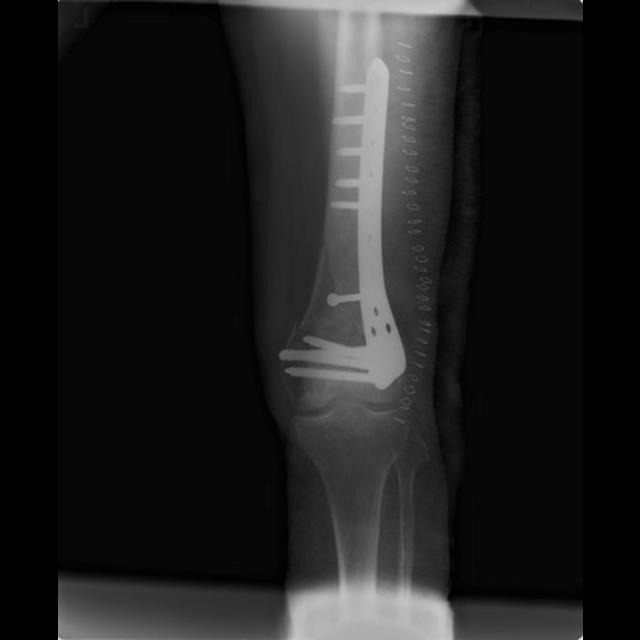Fracture: (320, 226, 364, 339), (288, 316, 315, 342)
